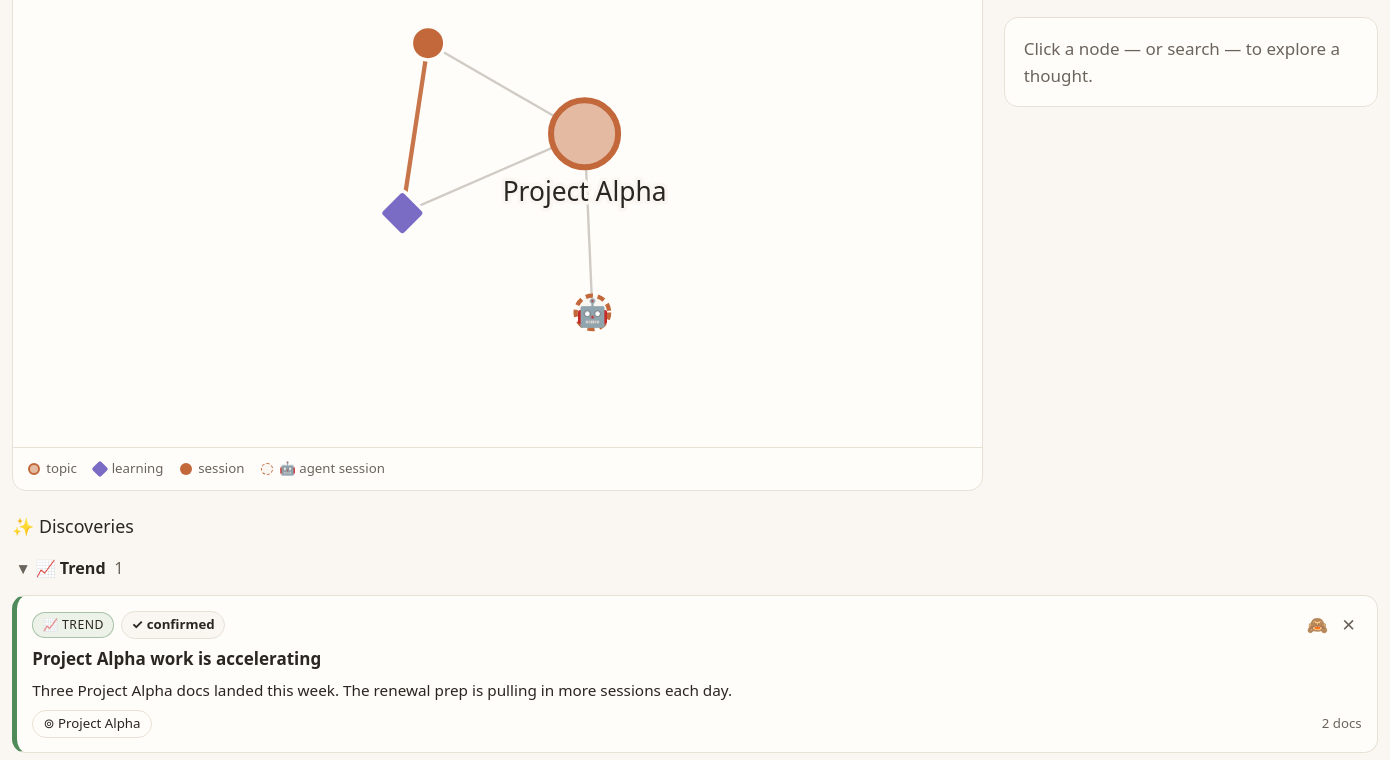
Test: BrainView discoveries › expands a card to the verification deep dive with evidence and internal sources
This screenshot has width=1390, height=760.
(page scrolled)
Click the button "Project Alpha work is accelerating": [177, 658] box [32,648,1362,671]
(page scrolled)
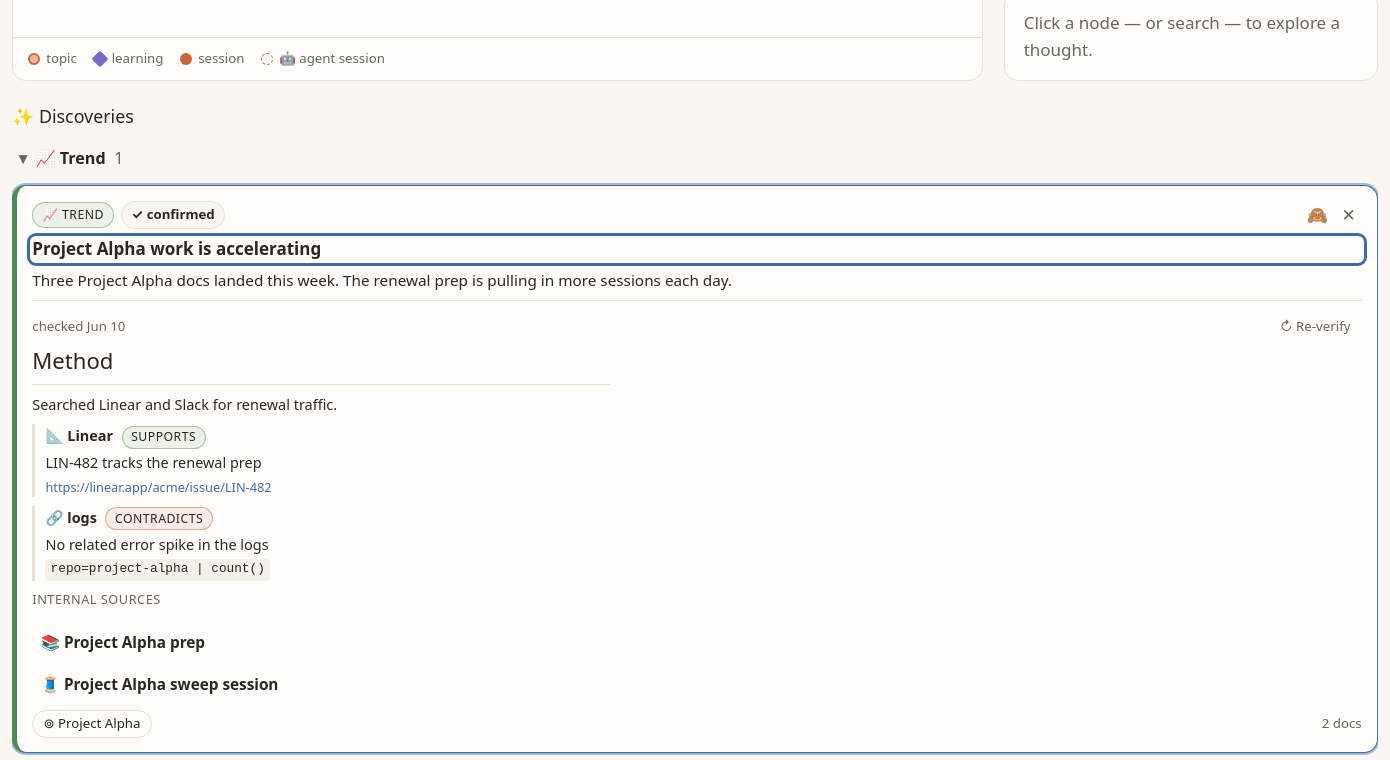
Expected: the text "checked Jun 10" is shown, [32,316,125,337]
Expected: the heading "Method" is shown, [32,342,610,385]
Expected: the text "Searched Linear and Slack for renewal traffic." is shown, [32,395,337,414]
# internal sources select the doc in the graph detail panel
Click the button "📚 Project Alpha prep": [134, 642] box [32,626,1362,660]
(page scrolled)
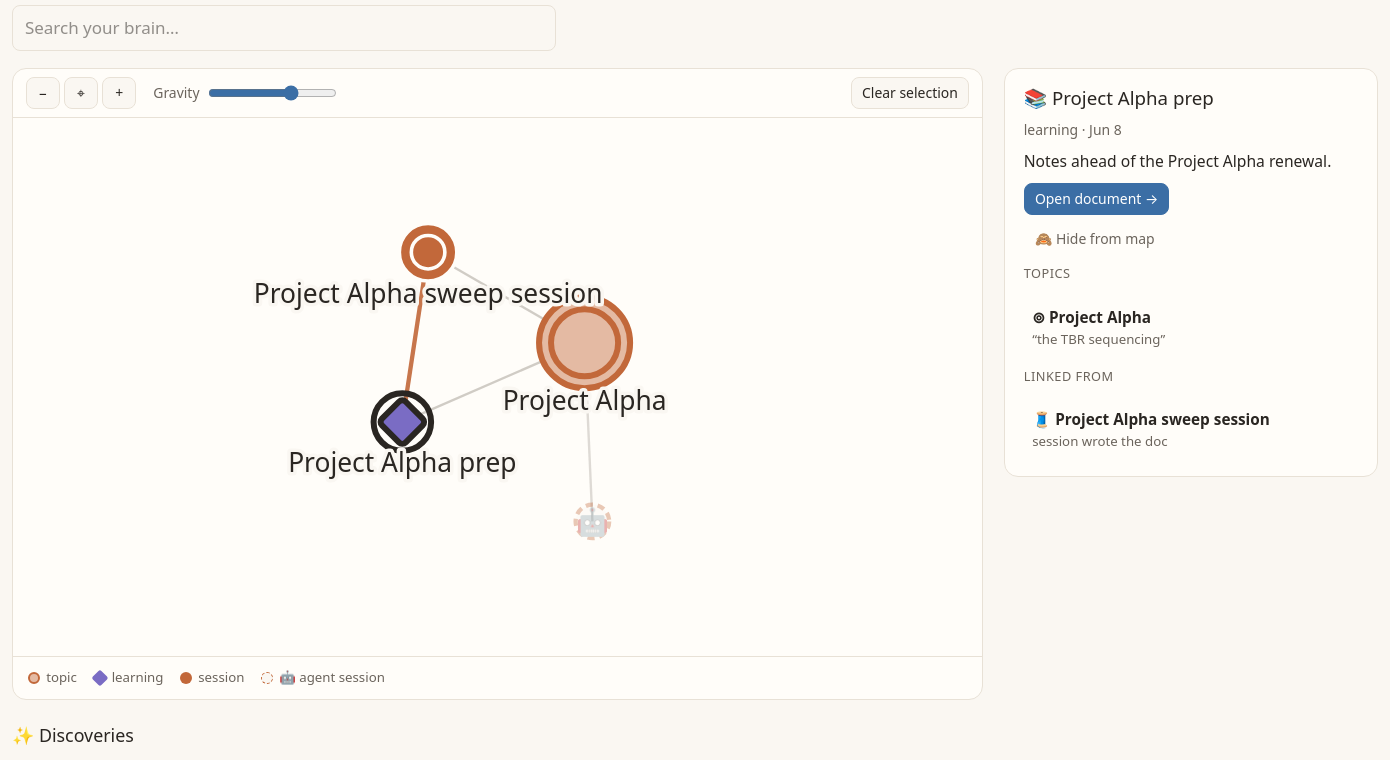
Expected: the text "Notes ahead of the Project Alpha renewal." is shown, [1024,149,1358,174]
